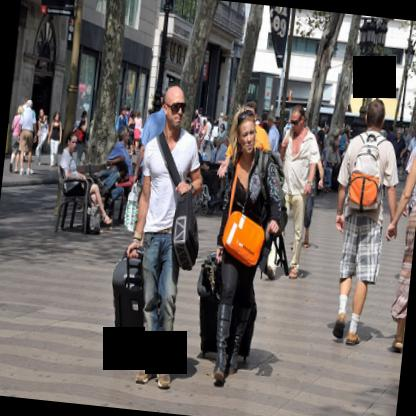backpack: (348, 124, 385, 212), (263, 149, 289, 238), (256, 149, 271, 222)
handbag: (155, 129, 200, 273), (219, 211, 266, 271), (81, 203, 101, 234), (74, 128, 84, 141)
suitcase: (197, 257, 256, 356), (112, 251, 144, 360)
